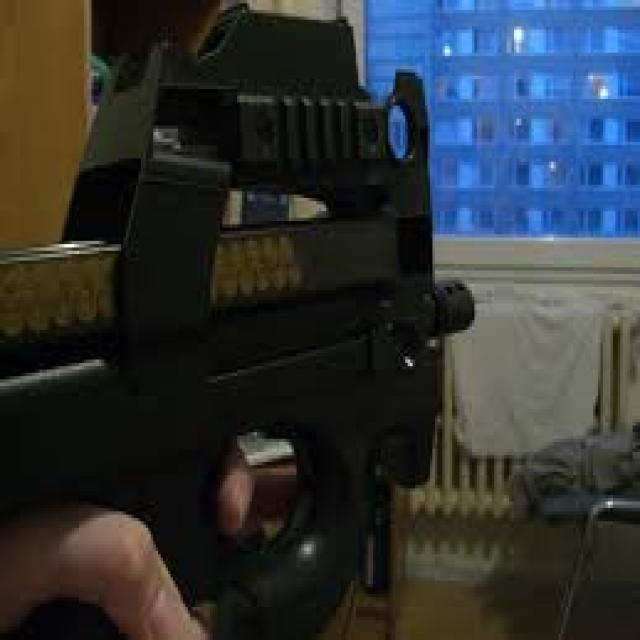Gun: (0, 0, 484, 640)
